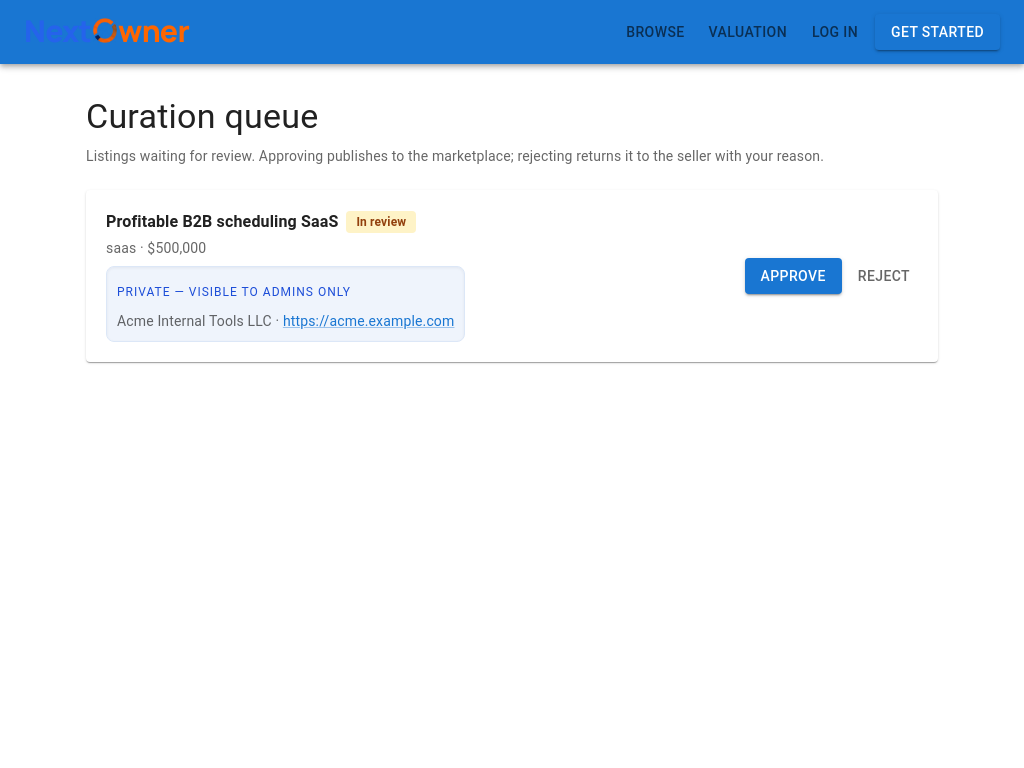
Test case: AdminQueue › F3: rejecting without a reason is blocked inline, not sent to the server
Expected: the text "Profitable B2B scheduling SaaS" is shown, [106,210,338,234]
Click the button "Reject": (884, 276) [850,258,918,294]
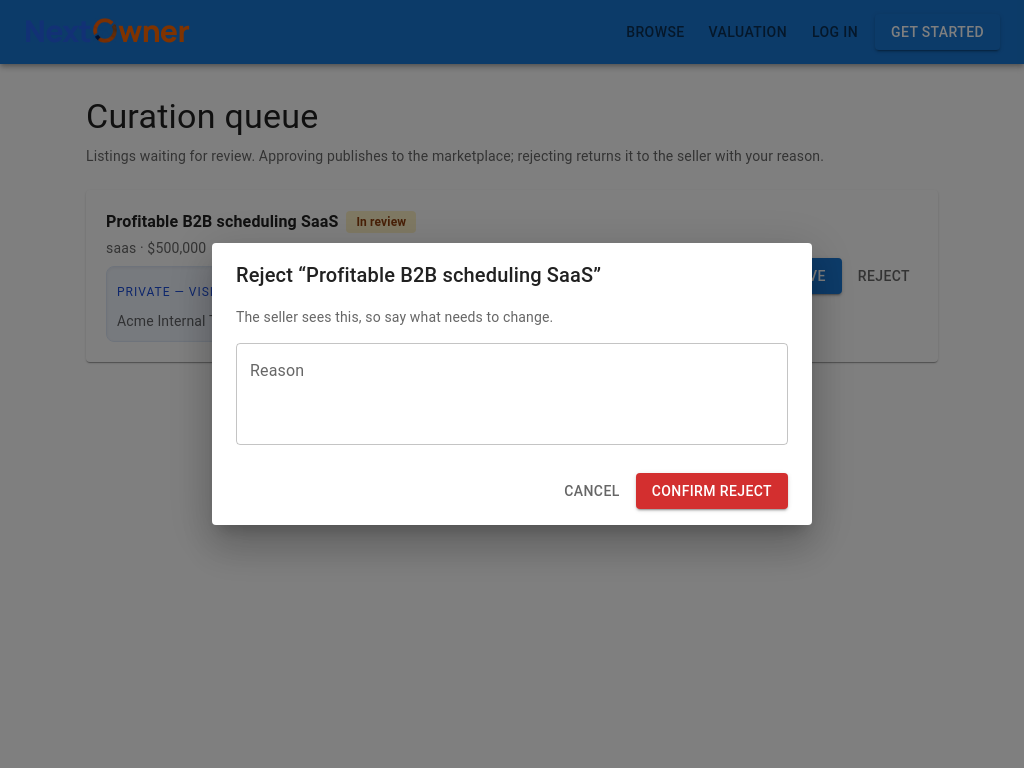
The dialog's own confirm, with the reason left empty.
Click the button "Confirm reject": (712, 491) [636,473,788,509]
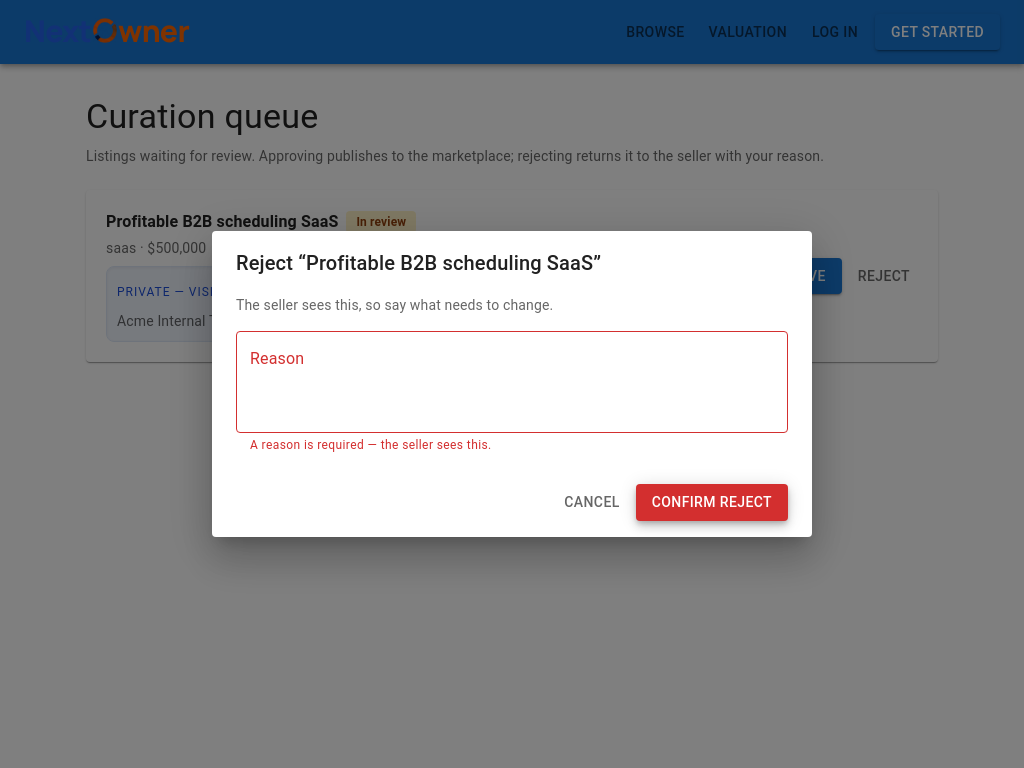
Result: the text "A reason is required — the seller sees this." is shown at [250,438,492,452]
